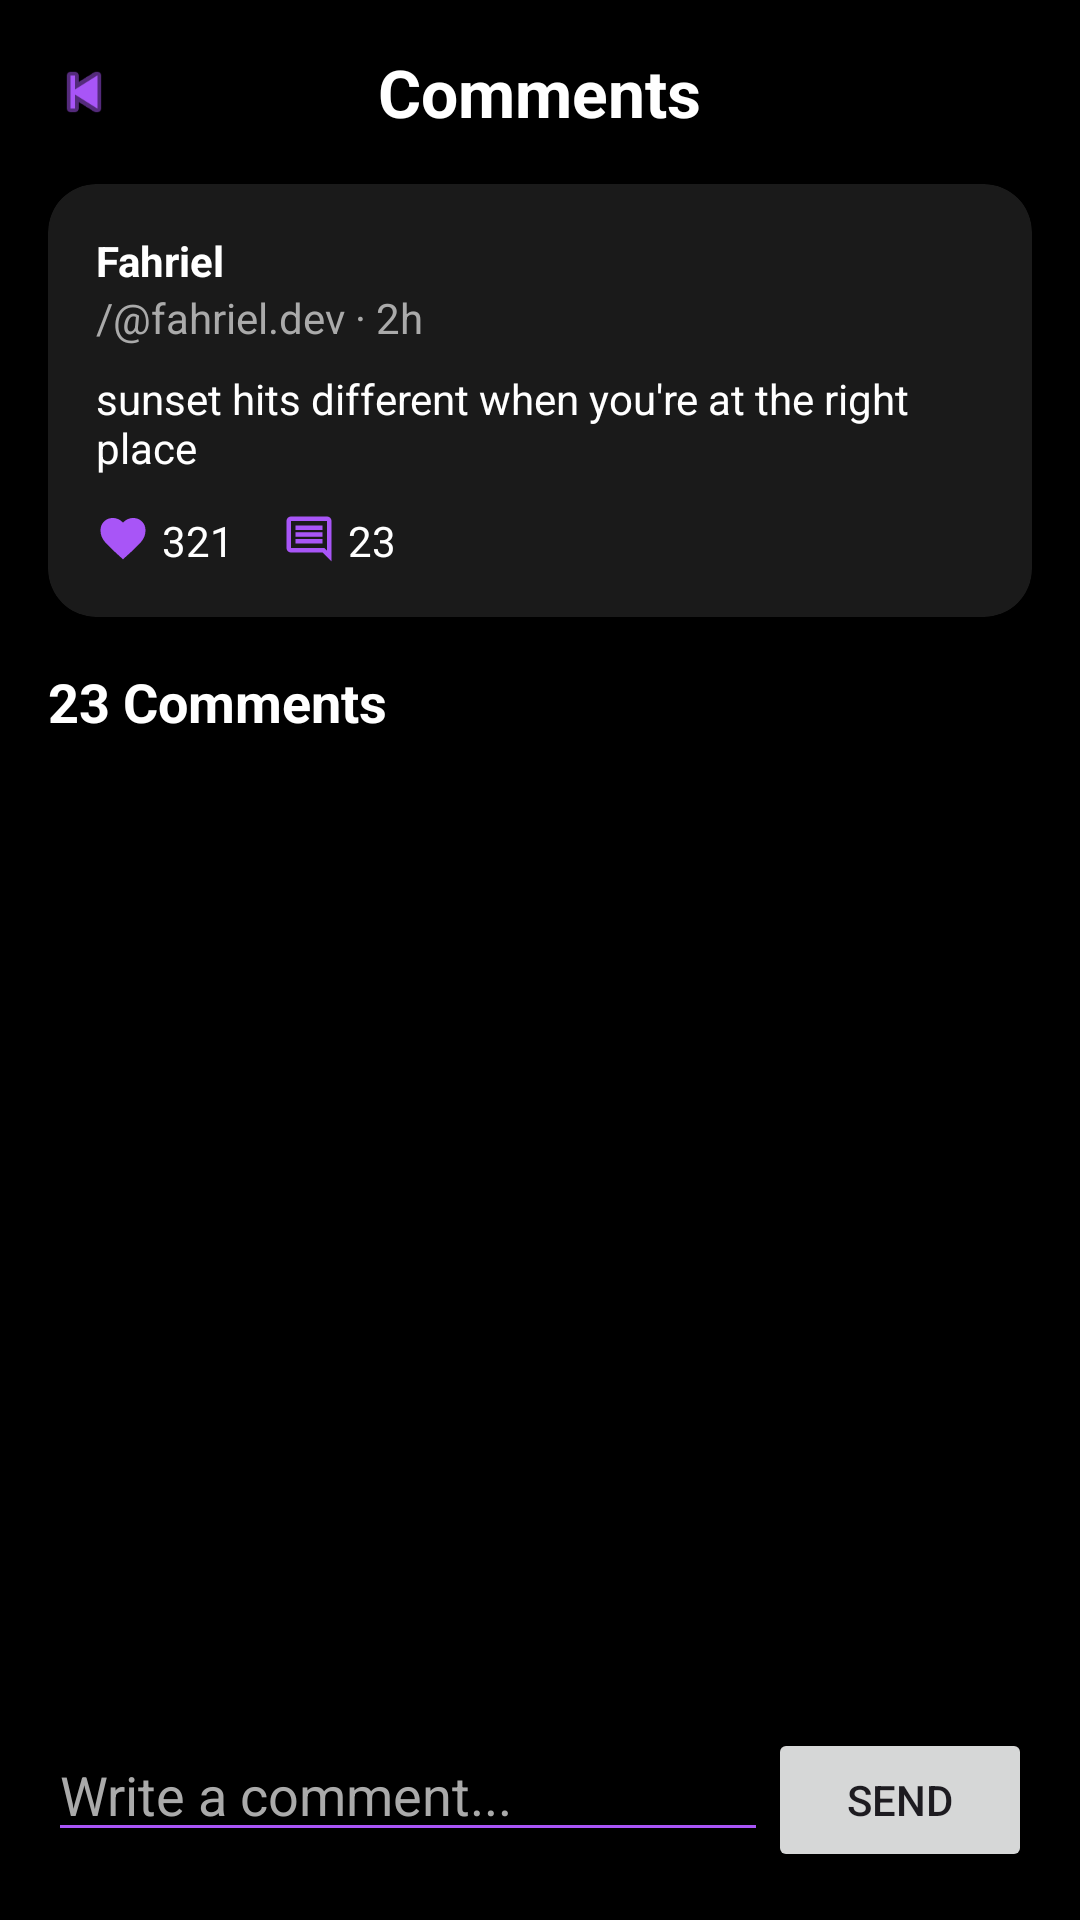

Point at icon controls on the screen. Image size 1080 × 1920, points as point (x, y).
favorite: point (123, 538)
previous: point (84, 92)
